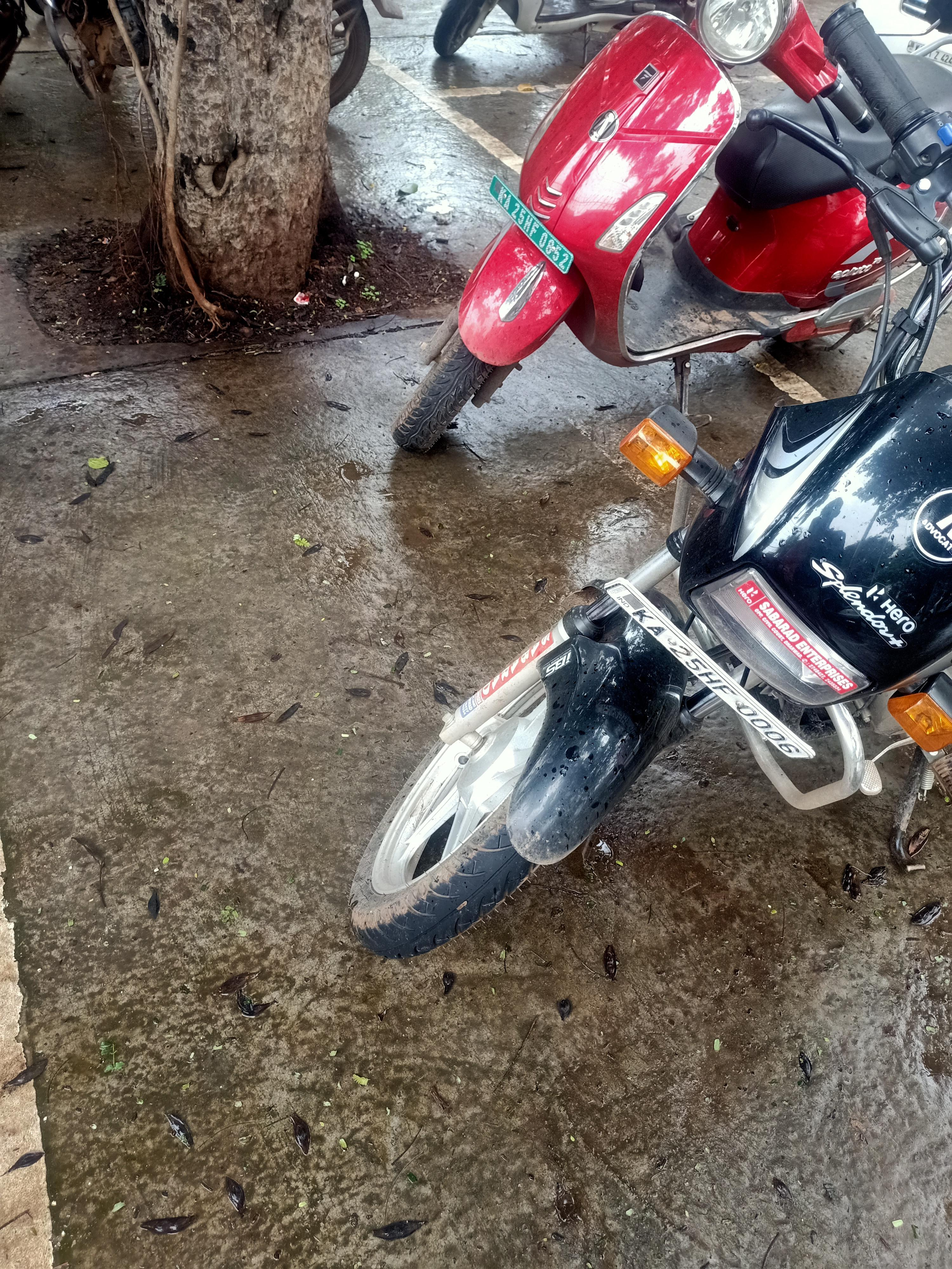green license plate: (479, 175, 574, 280)
